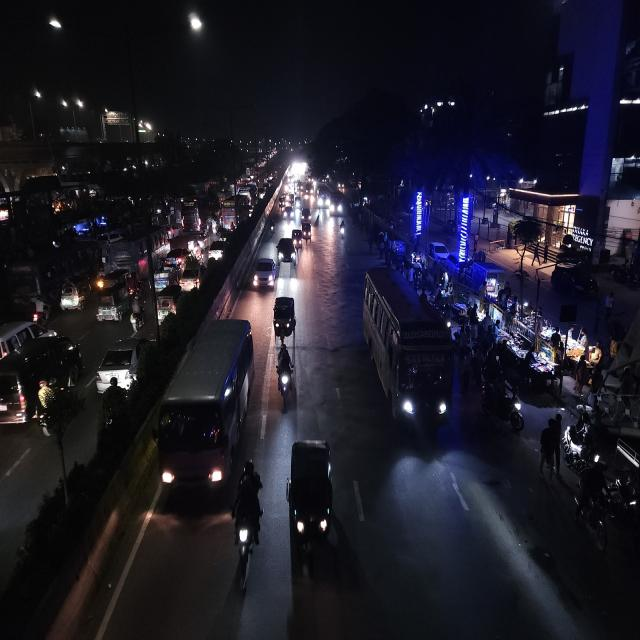bus: (155, 315, 255, 502), (360, 266, 456, 439), (106, 225, 170, 274), (220, 196, 245, 236), (179, 200, 203, 234), (318, 187, 330, 210)
car: (0, 333, 84, 433), (93, 334, 151, 394), (250, 252, 277, 293), (179, 260, 207, 293), (276, 233, 296, 270), (166, 246, 190, 266), (208, 238, 226, 264), (282, 206, 294, 223), (278, 192, 288, 209)
cng: (286, 435, 336, 569), (272, 293, 298, 347), (95, 283, 129, 324), (57, 275, 91, 315), (302, 220, 311, 243)
motorcycle: (230, 458, 265, 581), (477, 373, 525, 437), (563, 422, 597, 474), (274, 340, 296, 405), (128, 294, 146, 332), (126, 268, 140, 298), (268, 218, 277, 238), (338, 218, 346, 240)
pedestrian: (538, 417, 560, 478)
truck: (151, 264, 173, 292)
